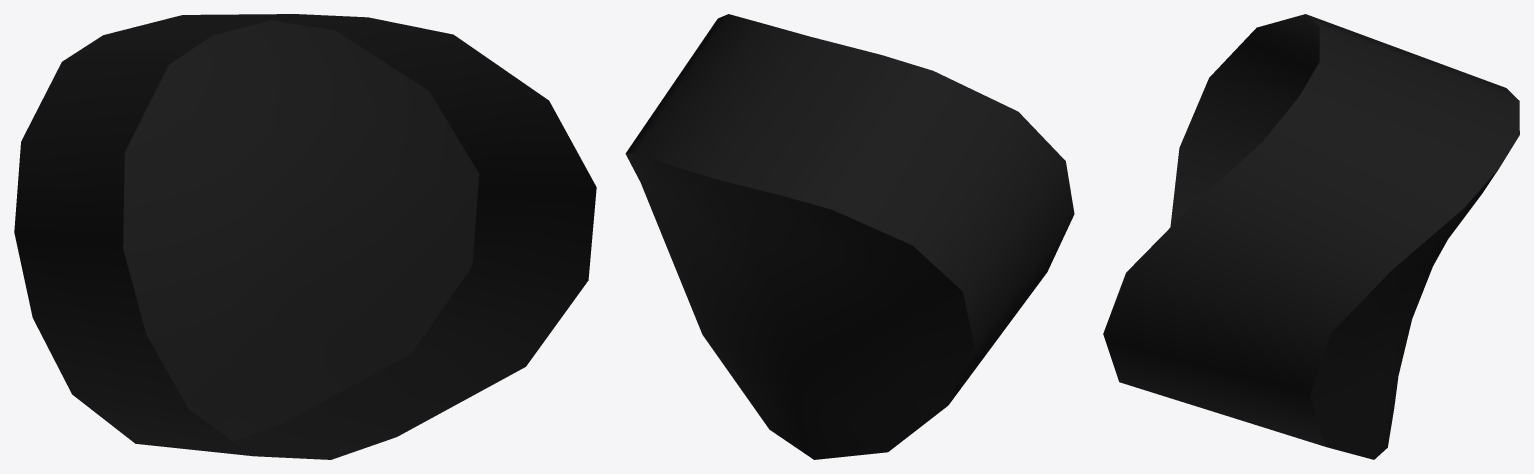
Rendered from crystal_controller_right_button2.obj.
The picture shows the model from 3 angles, left to right: view 1: azimuth 30°, elevation 25°; view 2: azimuth 150°, elevation 25°; view 3: azimuth 270°, elevation 25°; orthographic projection. The views are drawn at different scales.
Parts seen in each view (by area): view 1: crystal_controller_right_button2; view 2: crystal_controller_right_button2; view 3: crystal_controller_right_button2.
Boxes of the visible parts, x1,y1,x2,y2 form: crystal_controller_right_button2: (14, 14, 596, 459); crystal_controller_right_button2: (625, 14, 1074, 459); crystal_controller_right_button2: (1103, 14, 1519, 459).
Size of the model in its own units: 0.0305 by 0.0308 by 0.0288.
Materials: 1 (1 with a texture image).
